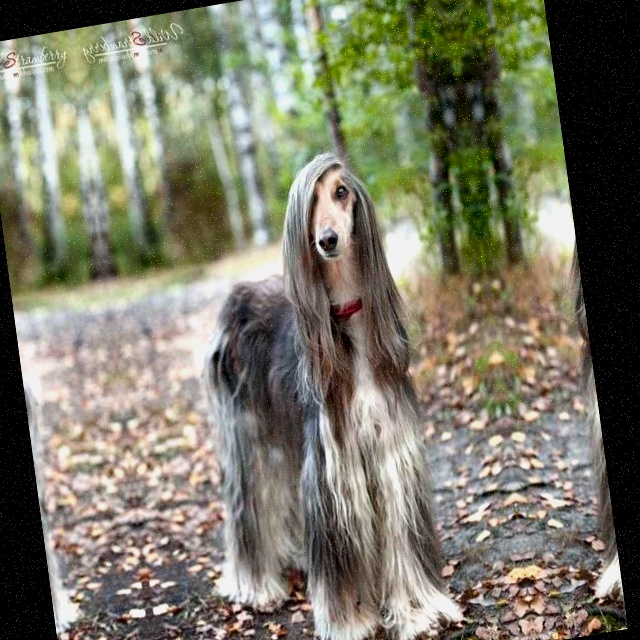dog: (154, 125, 468, 640), (528, 99, 624, 604), (0, 188, 96, 640)
